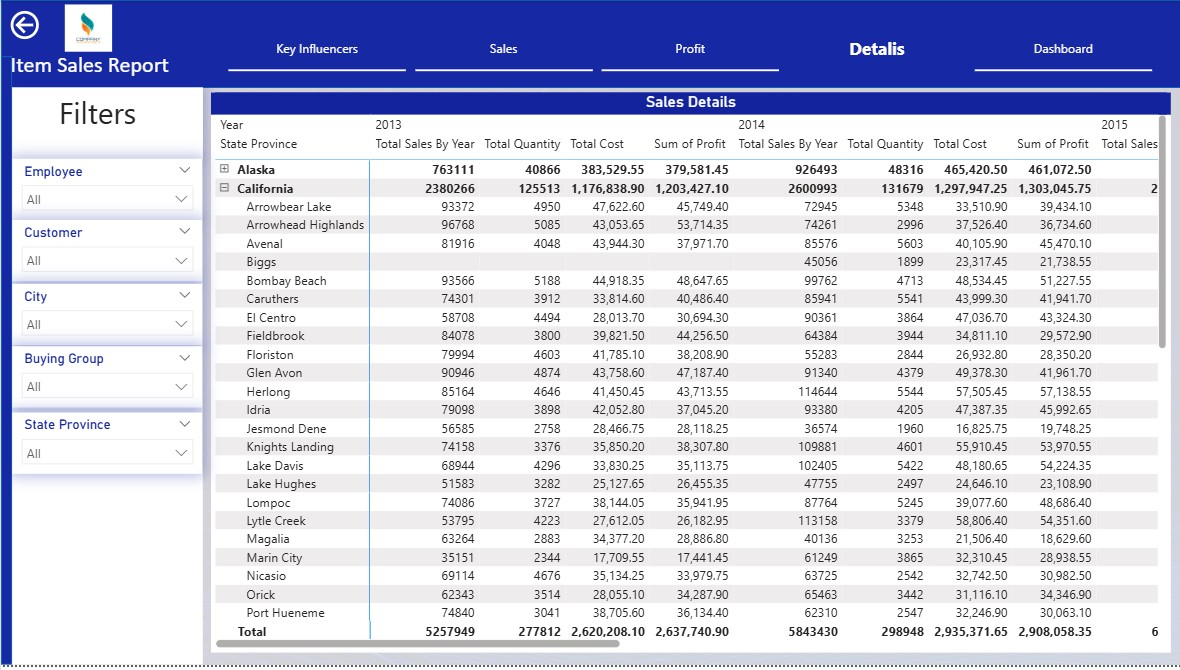

Layout of this report page (visuals, bound fields, positions):
{"tool":"powerbi","page":{"name":"Detalis","canvas":[1280,720],"ordinal":3},"visuals":[{"type":"shape","box":[0,0,1280,95.3],"z":0},{"type":"shape","box":[0,61.3,12.1,658.7],"z":1000},{"type":"shape","box":[12.1,95.1,206.3,624.9],"z":2000},{"type":"textbox","box":[6,50.7,334.2,44.6],"z":3000},{"type":"image","box":[55.5,0,78.5,60.9],"z":4000},{"type":"textbox","box":[12.5,95,206.2,77.5],"z":5000},{"type":"pivotTable","title":"Sales Details","fields":{"Values":["Sum(FactSale.Total Excluding Tax)","Sum(FactSale.Quantity)","Sum(FactSale.Cost)","Sum(FactSale.Profit)"],"Rows":["DimCity.State Province","DimCity.City"],"Columns":["DimDate.Date.Variation.Date Hierarchy.Year","DimDate.Date.Variation.Date Hierarchy.Quarter","DimDate.Date.Variation.Date Hierarchy.Month","DimDate.Date.Variation.Date Hierarchy.Day"]},"box":[227.4,100.1,1039.4,606.3],"z":6000},{"type":"slicer","fields":{"Values":["DimEmployee.Employee"]},"box":[12.2,171.9,205.7,66.3],"z":7000},{"type":"slicer","fields":{"Values":["DimCustomer.Customer"]},"box":[12.2,238.2,205.7,66.3],"z":8000},{"type":"slicer","fields":{"Values":["DimCity.City"]},"box":[12.2,307.2,205.7,66.3],"z":9000},{"type":"slicer","fields":{"Values":["DimCustomer.Buying Group"]},"box":[12.2,374.9,205.7,66.3],"z":10000},{"type":"slicer","fields":{"Values":["DimCity.State Province"]},"box":[12.2,446.6,205.7,66.3],"z":11000},{"type":"actionButton","box":[5.4,6.8,100.1,40.6],"z":12000},{"type":"pageNavigator","box":[246.3,27.1,1000.1,50.1],"z":13000}]}

Visuals, with their boxes in screenshot pixels (x1, y1, x2, y2), scaled from the page's 1280x720 canvas onto the 1180x670 screenshot:
shape: (x1=0, y1=0, x2=1179, y2=89)
shape: (x1=0, y1=57, x2=11, y2=669)
shape: (x1=11, y1=88, x2=201, y2=669)
textbox: (x1=6, y1=47, x2=314, y2=89)
image: (x1=51, y1=0, x2=124, y2=57)
textbox: (x1=12, y1=88, x2=202, y2=161)
"Sales Details" pivotTable: (x1=210, y1=93, x2=1168, y2=657)
slicer - DimEmployee.Employee: (x1=11, y1=160, x2=201, y2=222)
slicer - DimCustomer.Customer: (x1=11, y1=222, x2=201, y2=283)
slicer - DimCity.City: (x1=11, y1=286, x2=201, y2=348)
slicer - DimCustomer.Buying Group: (x1=11, y1=349, x2=201, y2=411)
slicer - DimCity.State Province: (x1=11, y1=416, x2=201, y2=477)
actionButton: (x1=5, y1=6, x2=97, y2=44)
pageNavigator: (x1=227, y1=25, x2=1149, y2=72)
